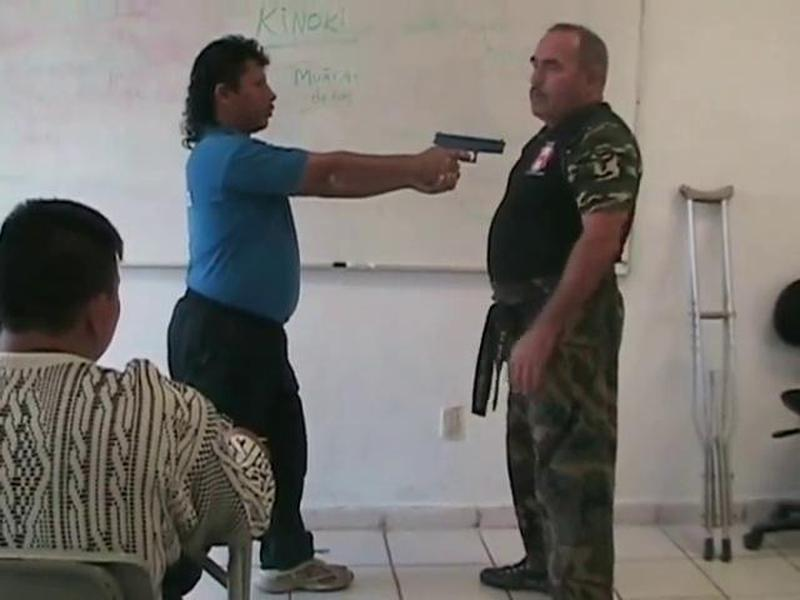Pistola: (429, 128, 511, 177)
